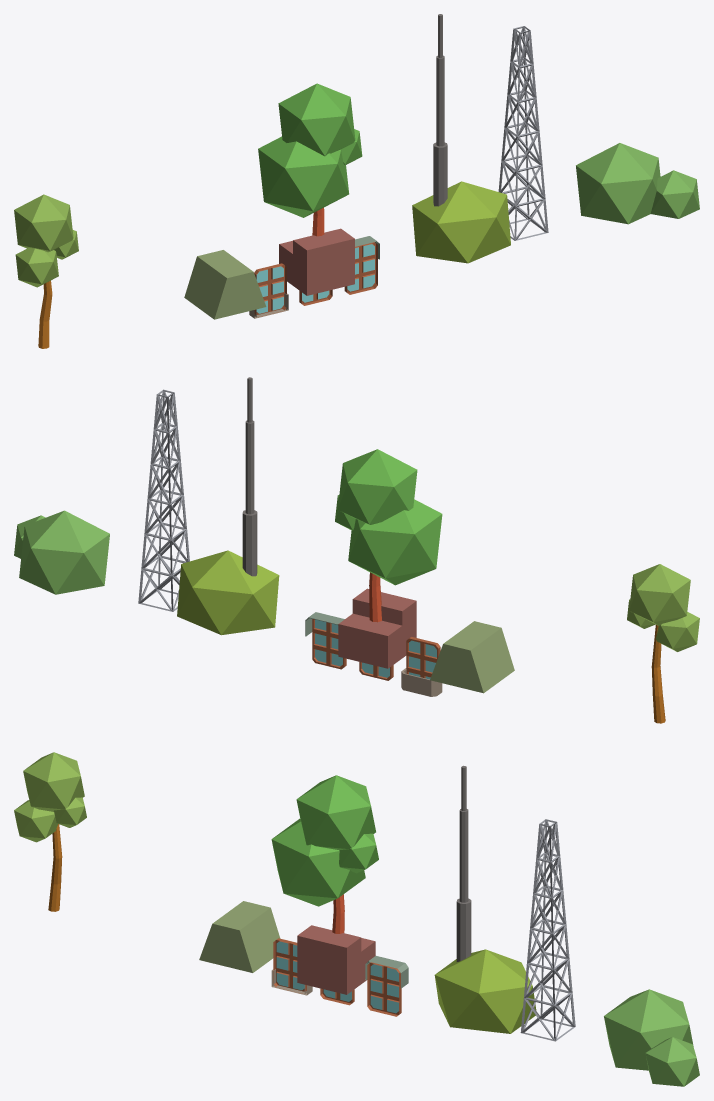
Rendered from Procedural.glb.
3 views of the same model, one above another, from view 1: azimuth 30°, elevation 25°; view 2: azimuth 150°, elevation 25°; view 3: azimuth 330°, elevation 25° (orthographic). The views are drawn at different scales.
Parts seen in each view (by area): view 1: Tree_1, Bush_2, Bush_1, Antenna_1, Tree_2, Roof_Box_1, Roof_Box_2, Antenna_2, Window_2, Window_3; view 2: Tree_1, Bush_1, Bush_2, Antenna_1, Tree_2, Roof_Box_1, Roof_Box_2, Antenna_2, Window_2, Window_3; view 3: Tree_1, Bush_2, Bush_1, Antenna_1, Tree_2, Roof_Box_1, Roof_Box_2, Antenna_2, Window_3, Window_2.
Boxes of the visible parts, box(x1,y1,x2,y2) form: Tree_1: box(258, 83, 362, 236); Bush_2: box(576, 143, 699, 224); Bush_1: box(412, 181, 510, 263); Antenna_1: box(498, 26, 548, 240); Tree_2: box(14, 194, 78, 348); Roof_Box_1: box(279, 228, 354, 295); Roof_Box_2: box(184, 250, 266, 319); Antenna_2: box(433, 14, 447, 206); Window_2: box(249, 263, 288, 318); Window_3: box(344, 236, 379, 294); Tree_1: box(335, 449, 442, 622); Bush_1: box(177, 550, 279, 635); Bush_2: box(14, 510, 109, 594); Antenna_1: box(138, 389, 189, 611); Tree_2: box(627, 564, 699, 723); Roof_Box_1: box(338, 588, 416, 668); Roof_Box_2: box(430, 621, 514, 693); Antenna_2: box(242, 377, 257, 576); Window_2: box(401, 637, 442, 696); Window_3: box(305, 612, 346, 669); Tree_1: box(271, 775, 378, 933); Bush_2: box(604, 989, 699, 1086); Bush_1: box(434, 949, 536, 1033); Antenna_1: box(520, 819, 575, 1041); Tree_2: box(14, 752, 86, 911); Roof_Box_1: box(297, 925, 375, 994); Roof_Box_2: box(199, 901, 280, 972); Antenna_2: box(456, 765, 471, 961); Window_3: box(365, 956, 408, 1016); Window_2: box(271, 938, 312, 995).
Size of the model in its own units: 2.15 by 0.7937 by 0.2704.
